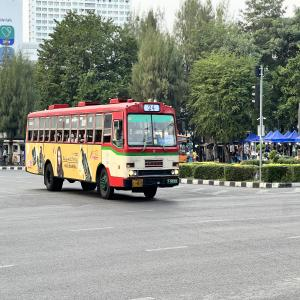BMTA-bus: (25, 99, 181, 200)
Bus Line Number: (142, 104, 161, 112)
Bus Side Number: (166, 179, 178, 184)
Destination Sign: (158, 138, 165, 146)
